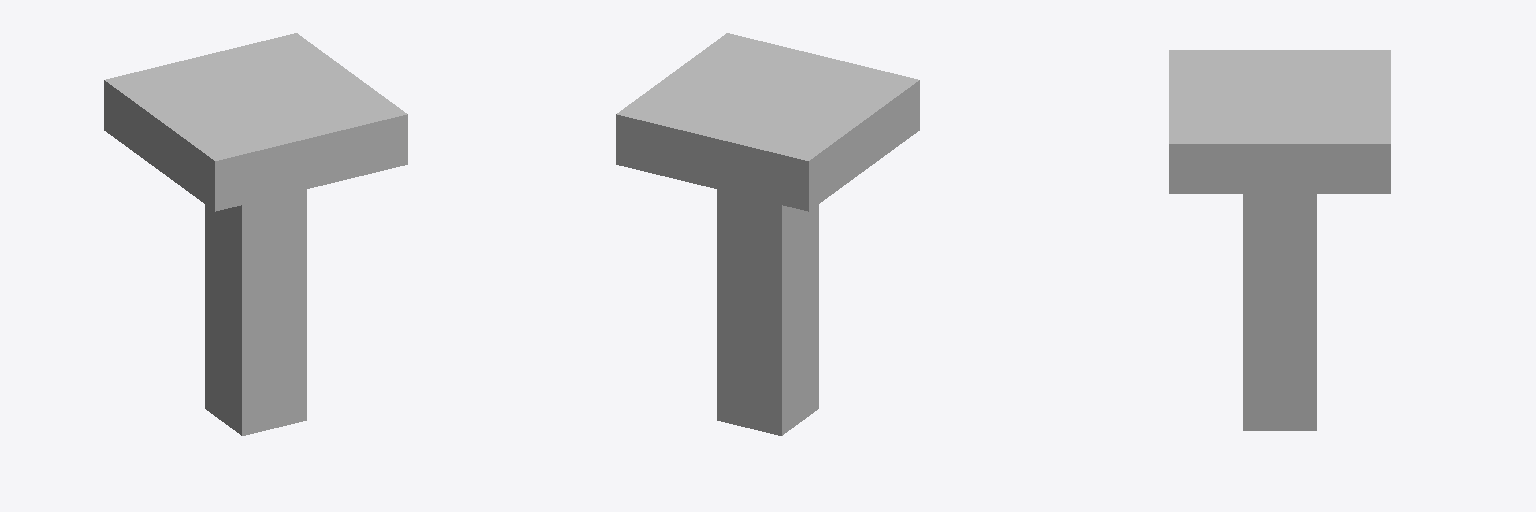
The model's file is auto_sifter_piston.obj.
The picture shows the model from 3 angles: view 1: azimuth 30°, elevation 25°; view 2: azimuth 150°, elevation 25°; view 3: azimuth 270°, elevation 25°; orthographic projection.
Parts seen in each view (by area): view 1: Cube.006_Cube.007; view 2: Cube.006_Cube.007; view 3: Cube.006_Cube.007.
Boxes of the visible parts, box(x1,y1,x2,y2) form: Cube.006_Cube.007: box(104, 33, 407, 435); Cube.006_Cube.007: box(616, 33, 919, 435); Cube.006_Cube.007: box(1169, 50, 1390, 430).
Size of the model in its own units: 1.5 by 2.37 by 1.5.